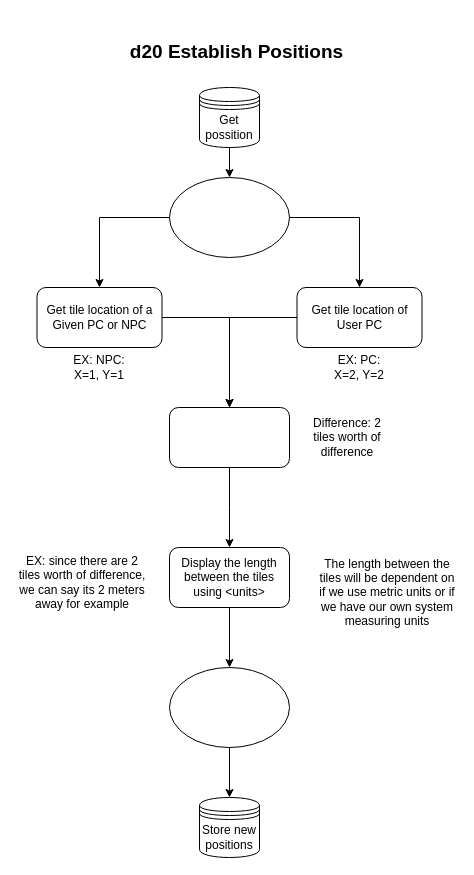
This 474x875 diagram has some shape labels left out. The centre of each missing label's shape, as x and y in pixels:
"calculate out the relative tile difference between the two targets" belongs at (229,437).
"end" belongs at (229,707).
"Start" belongs at (229,217).
